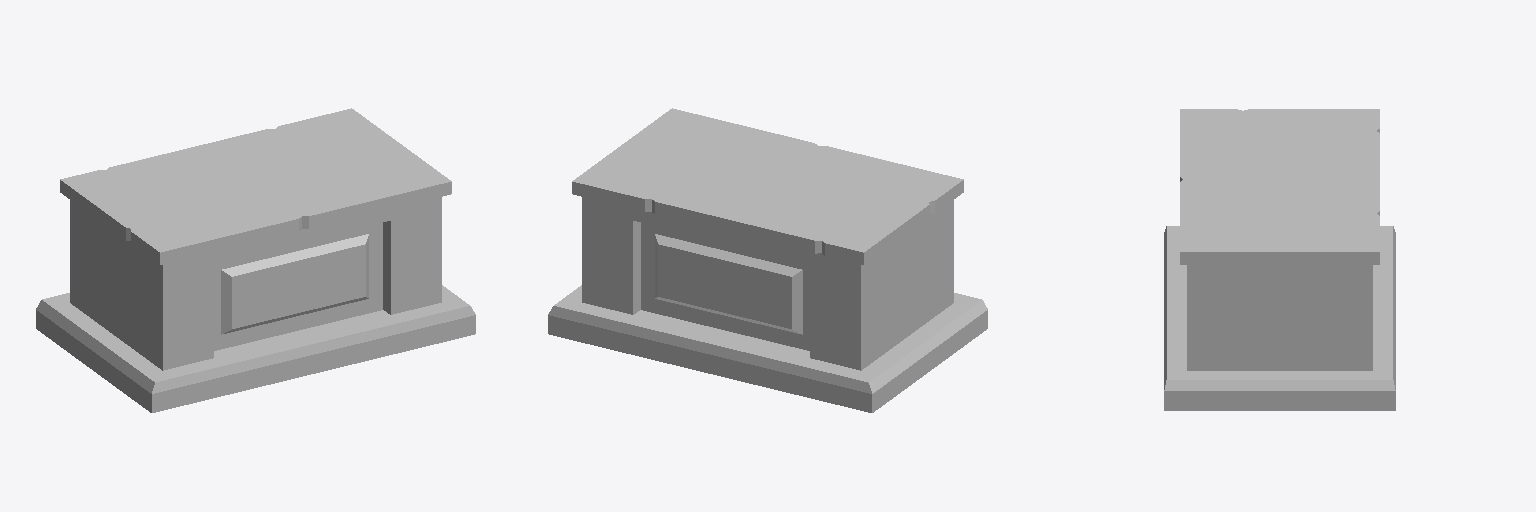
Rendered from altarWood.obj.
The picture shows the model from 3 angles: view 1: azimuth 30°, elevation 25°; view 2: azimuth 150°, elevation 25°; view 3: azimuth 270°, elevation 25°; orthographic projection.
Parts seen in each view (by area): view 1: altarWood; view 2: altarWood; view 3: altarWood.
Boxes of the visible parts, x1,y1,x2,y2 form: altarWood: [36, 108, 475, 412]; altarWood: [548, 108, 987, 412]; altarWood: [1164, 109, 1395, 410].
Size of the model in its own units: 10.57 by 4.7 by 6.53.